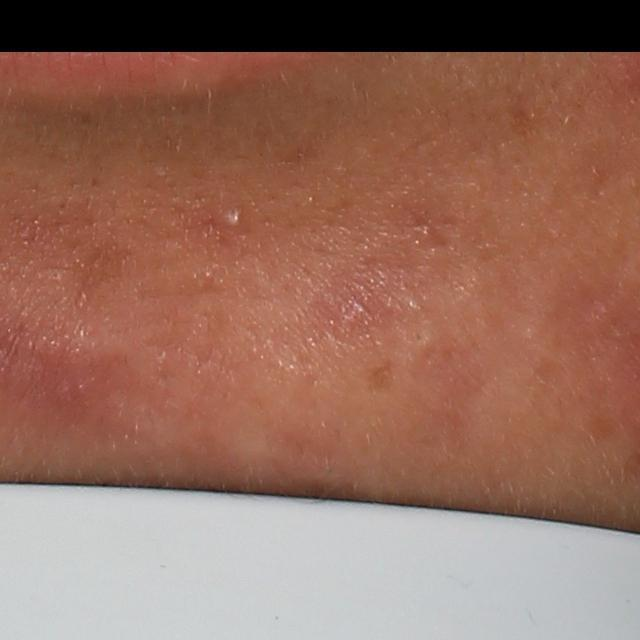pustule: (210, 203, 250, 233)
